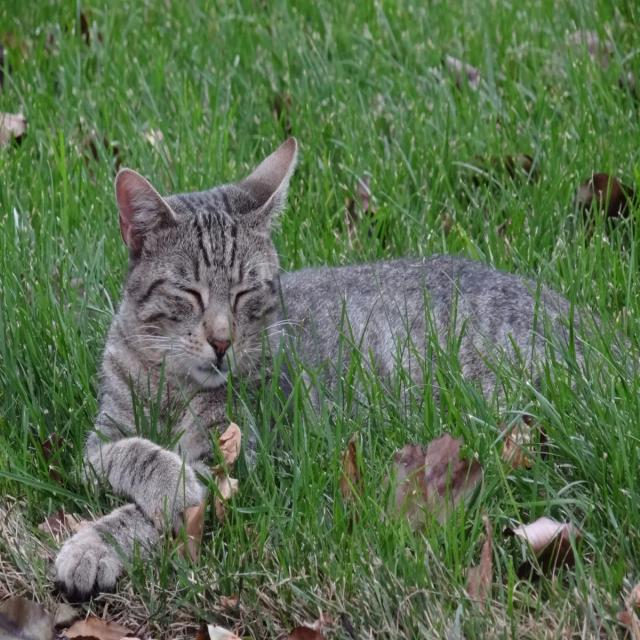cat: (55, 138, 599, 600)
